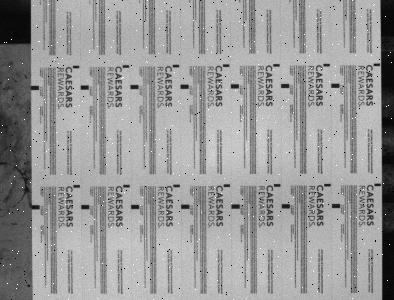qblock: (80, 85, 89, 90), (231, 204, 240, 209), (331, 83, 339, 88), (131, 204, 139, 209), (181, 204, 189, 209), (332, 203, 340, 208), (281, 84, 290, 88), (180, 85, 189, 89), (130, 85, 138, 89), (231, 84, 239, 88), (81, 205, 89, 209), (282, 204, 290, 208), (31, 86, 39, 90), (31, 205, 39, 209)
smallqblock: (73, 184, 80, 188), (123, 184, 130, 188), (173, 64, 179, 68), (324, 183, 330, 187), (273, 64, 280, 67), (223, 64, 230, 67), (274, 184, 281, 187), (373, 63, 380, 66), (223, 184, 230, 187), (374, 183, 381, 186), (122, 65, 129, 68), (323, 64, 330, 67), (73, 66, 79, 69), (174, 184, 180, 187)
